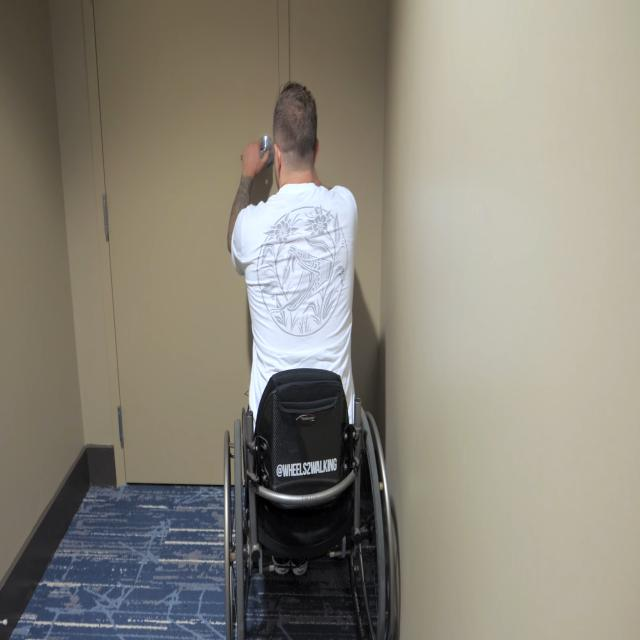wheelchairs: (221, 364, 403, 640)
